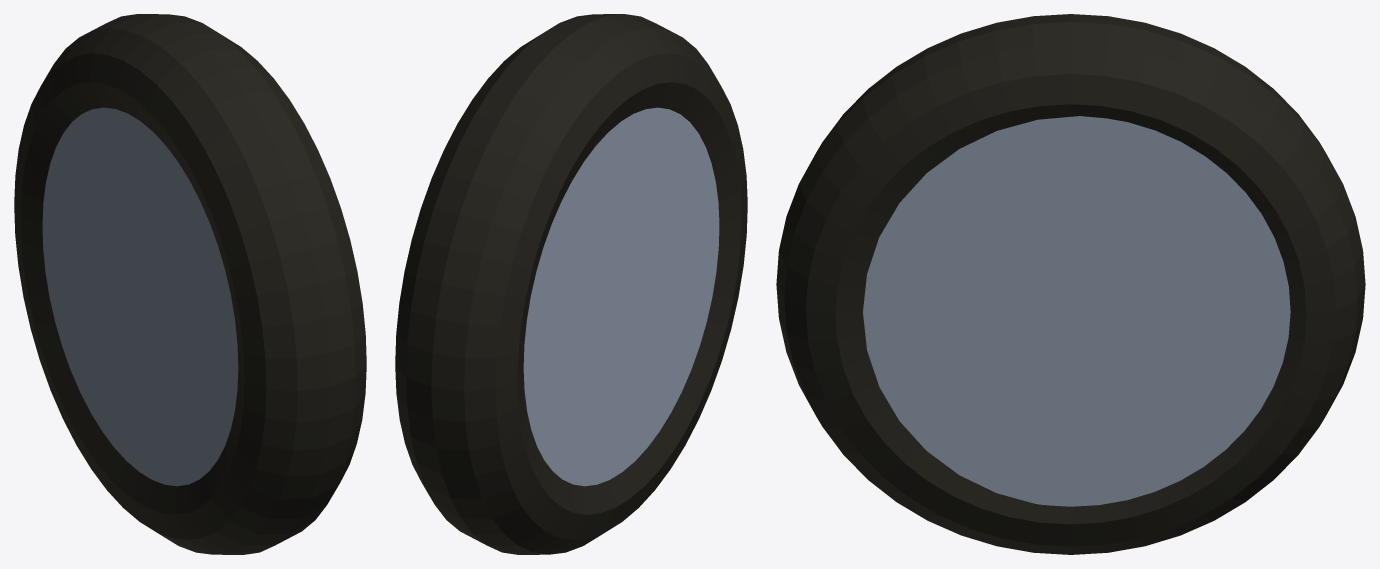
File: RODS 1.fbx
The picture shows the model from 3 angles, left to right: view 1: azimuth 30°, elevation 25°; view 2: azimuth 150°, elevation 25°; view 3: azimuth 270°, elevation 25°; orthographic projection. The views are drawn at different scales.
Visible parts, largest first — view 1: Circle; view 2: Circle; view 3: Circle.
Part boxes in pixels (left/top/right/bottom): Circle: left=14, top=14, right=366, bottom=554; Circle: left=395, top=14, right=747, bottom=554; Circle: left=776, top=14, right=1365, bottom=554.
Size of the model in its own units: 13.33 by 54.41 by 55.24.
